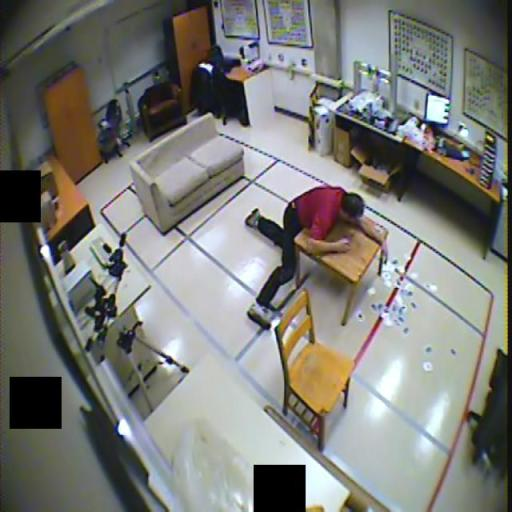Fall: (243, 185, 388, 330)
